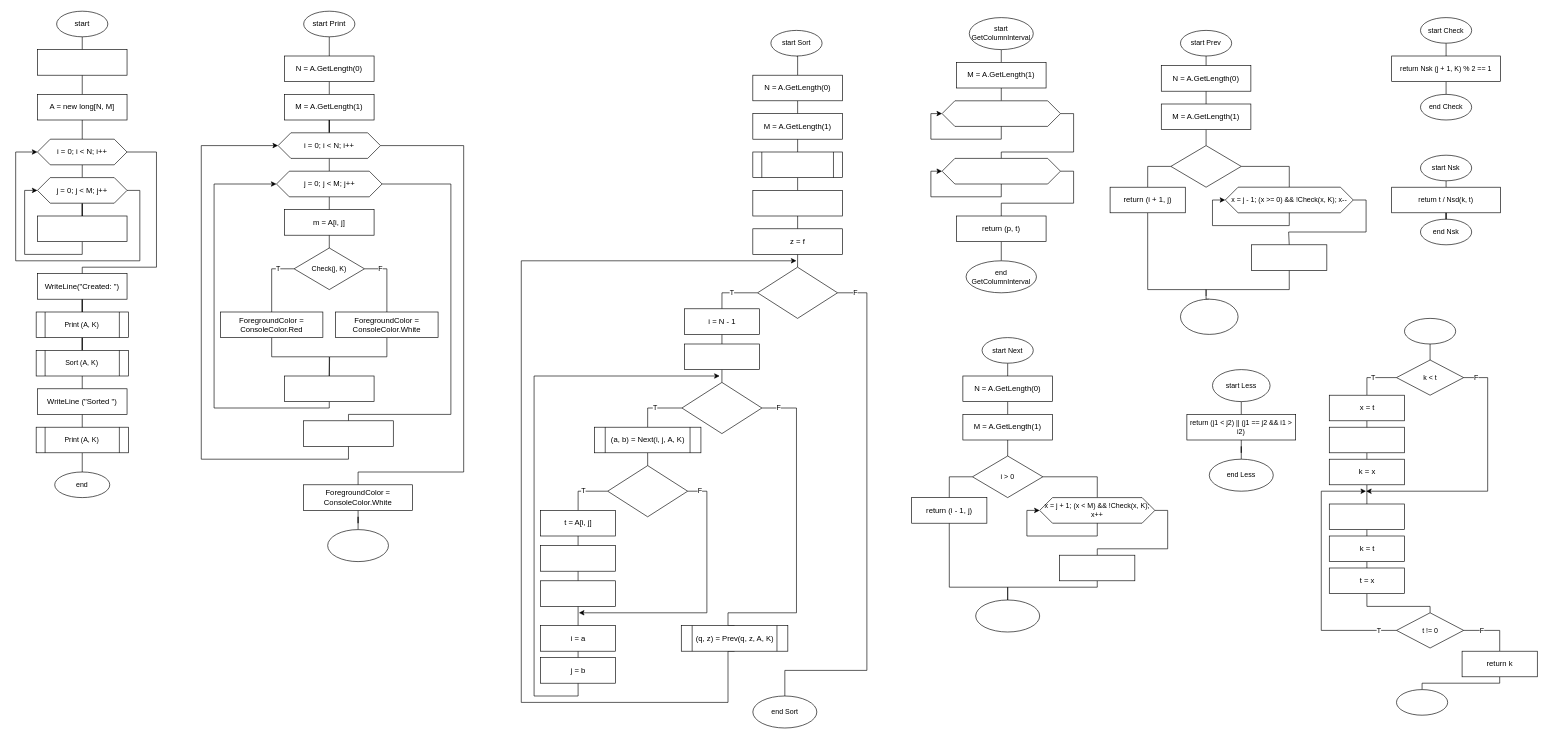
This 1549x739 diagram has some shape labels left out. Each missing label, with the centre of its shape:
A[a, b] = t: pixel 578 593
A[i, j] = A[a,b]: pixel 578 558
A[i, j] = rnd.Next(1, 100): pixel 82 228
A[i, j] > A[a, b]: pixel 647 491
end Next: pixel 1007 615
end Nsd: pixel 1422 702
end Prev: pixel 1209 316
end Print: pixel 357 545
GetColumnInterval: pixel 797 164
i < N - 1: pixel 1205 166
j = c: pixel 722 356
K, M, N є R: pixel 82 62
Less (i, j , q, z): pixel 721 408
Less (N - 1, c, q, z): pixel 797 292
p = 0; p < M && !Check(p, K); p++: pixel 1000 113
q = 0: pixel 797 203
return (0, x): pixel 1289 257
return (N - 1, x): pixel 1097 568
start Nsd: pixel 1430 331
t = k: pixel 1366 440
t = M - 1; t >=0 && !Check(t, K); t--: pixel 1000 171
Write(m + "\t"): pixel 329 388
WriteLine( ): pixel 348 433
x = k % t: pixel 1366 516
